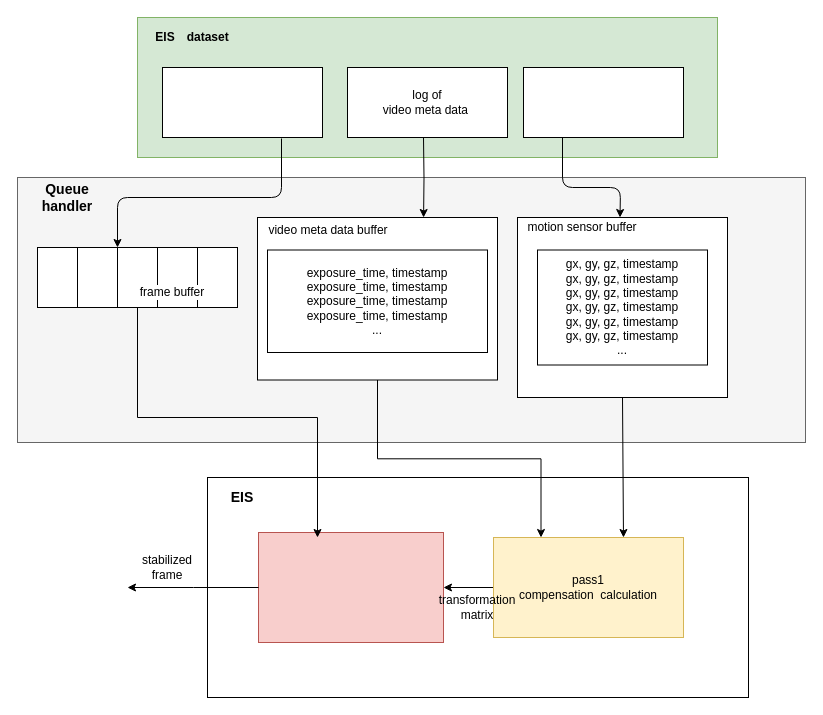
The diagram is 823 pixels wide and 715 high, and some of its shapes have lost their labels. The box of each missing label's shape, as (x1, y1, x2, y2) in pixels:
gyro log: (522, 66, 684, 138)
pass2 image warp: (258, 532, 444, 642)
video: (162, 66, 322, 138)
